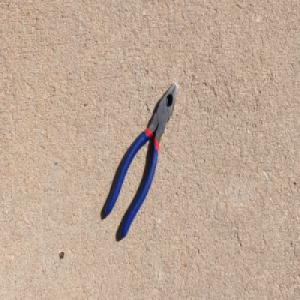Pliers: (103, 80, 179, 240)
